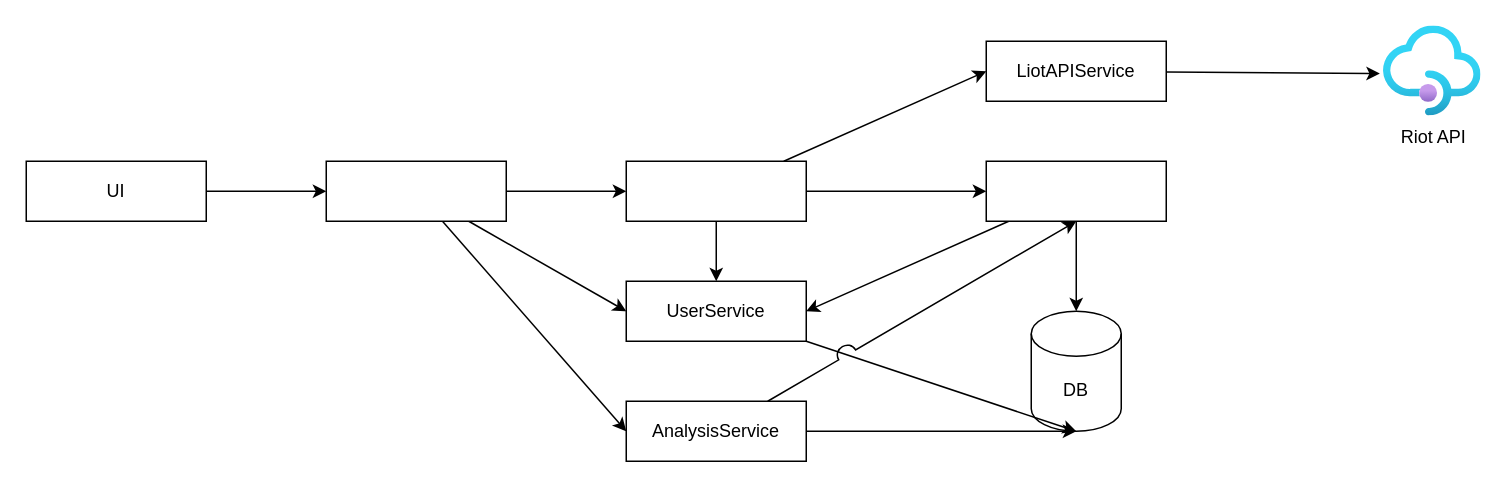
The diagram is 1508 pixels wide and 488 high, and some of its shapes have lost their labels. Here are the shapes that lost their labels. From the top down, the box of each, then its label:
(325, 160, 506, 221): Gateway
(625, 160, 806, 221): LiotAPIGateway
(985, 160, 1166, 221): LiotDataService
